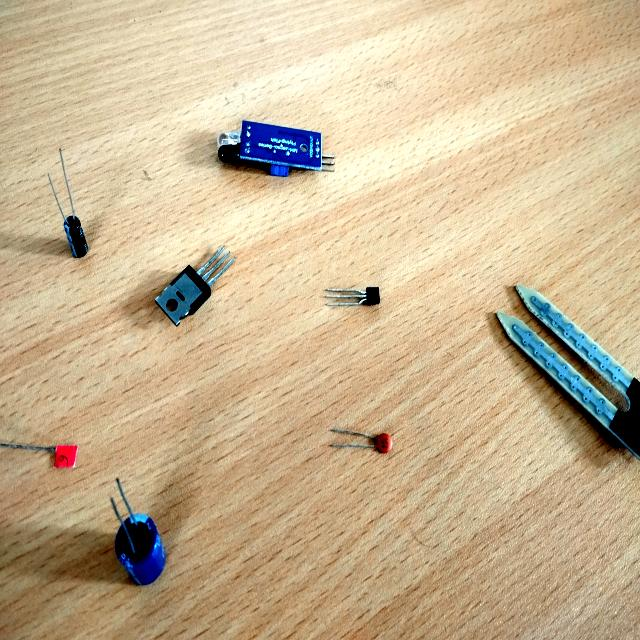capacitor: (115, 514, 165, 586), (64, 217, 88, 258), (370, 433, 392, 454)
